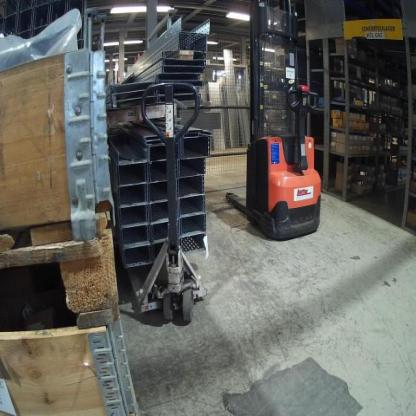pallet: (0, 229, 122, 336)
pallet_truck: (224, 2, 324, 248), (126, 82, 209, 327)
